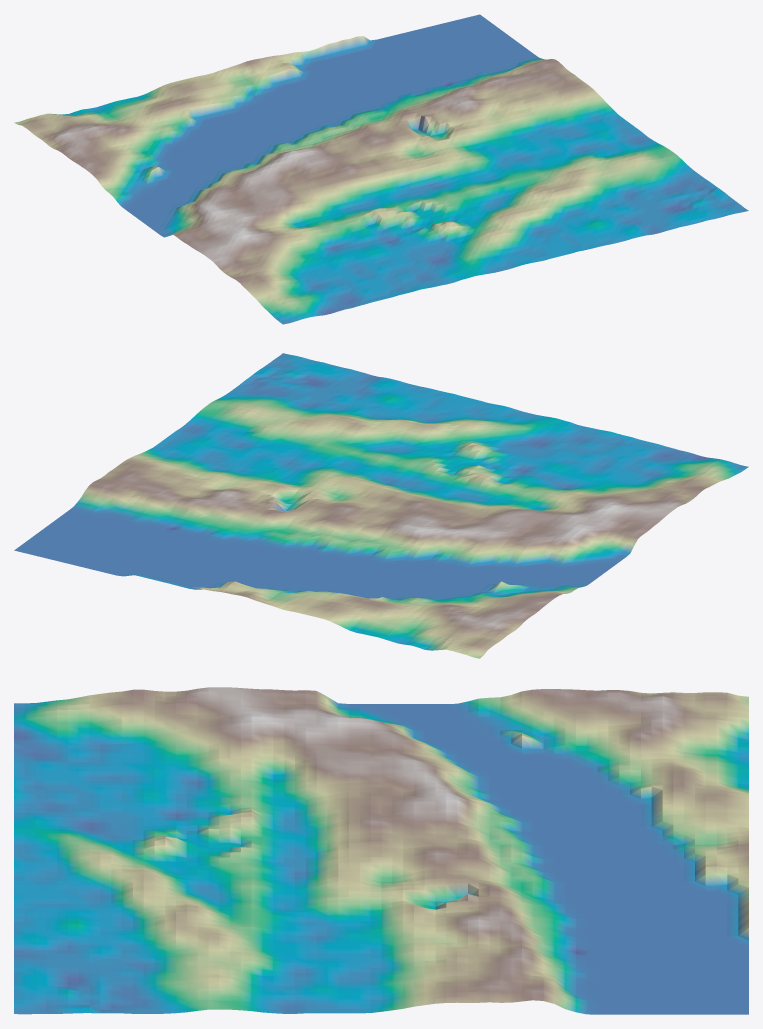
The model's file is 002651_terrain_only.glb.
The picture shows the model from 3 angles, top to bottom: view 1: azimuth 30°, elevation 25°; view 2: azimuth 150°, elevation 25°; view 3: azimuth 270°, elevation 25°; orthographic projection. The views are drawn at different scales.
Visible parts, largest first — view 1: terrain; view 2: terrain; view 3: terrain.
Boxes of the visible parts, box(x1,y1,x2,y2) form: terrain: box(14, 14, 748, 324); terrain: box(14, 353, 748, 658); terrain: box(14, 687, 748, 1014).
Bounding box in the file's own units: 0.0183 × 0.00056 × 0.0183.
